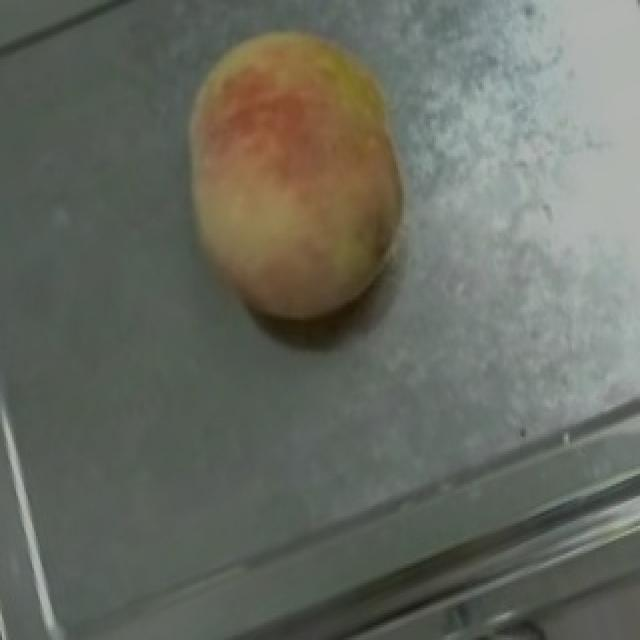Fruit: (136, 0, 458, 362)
